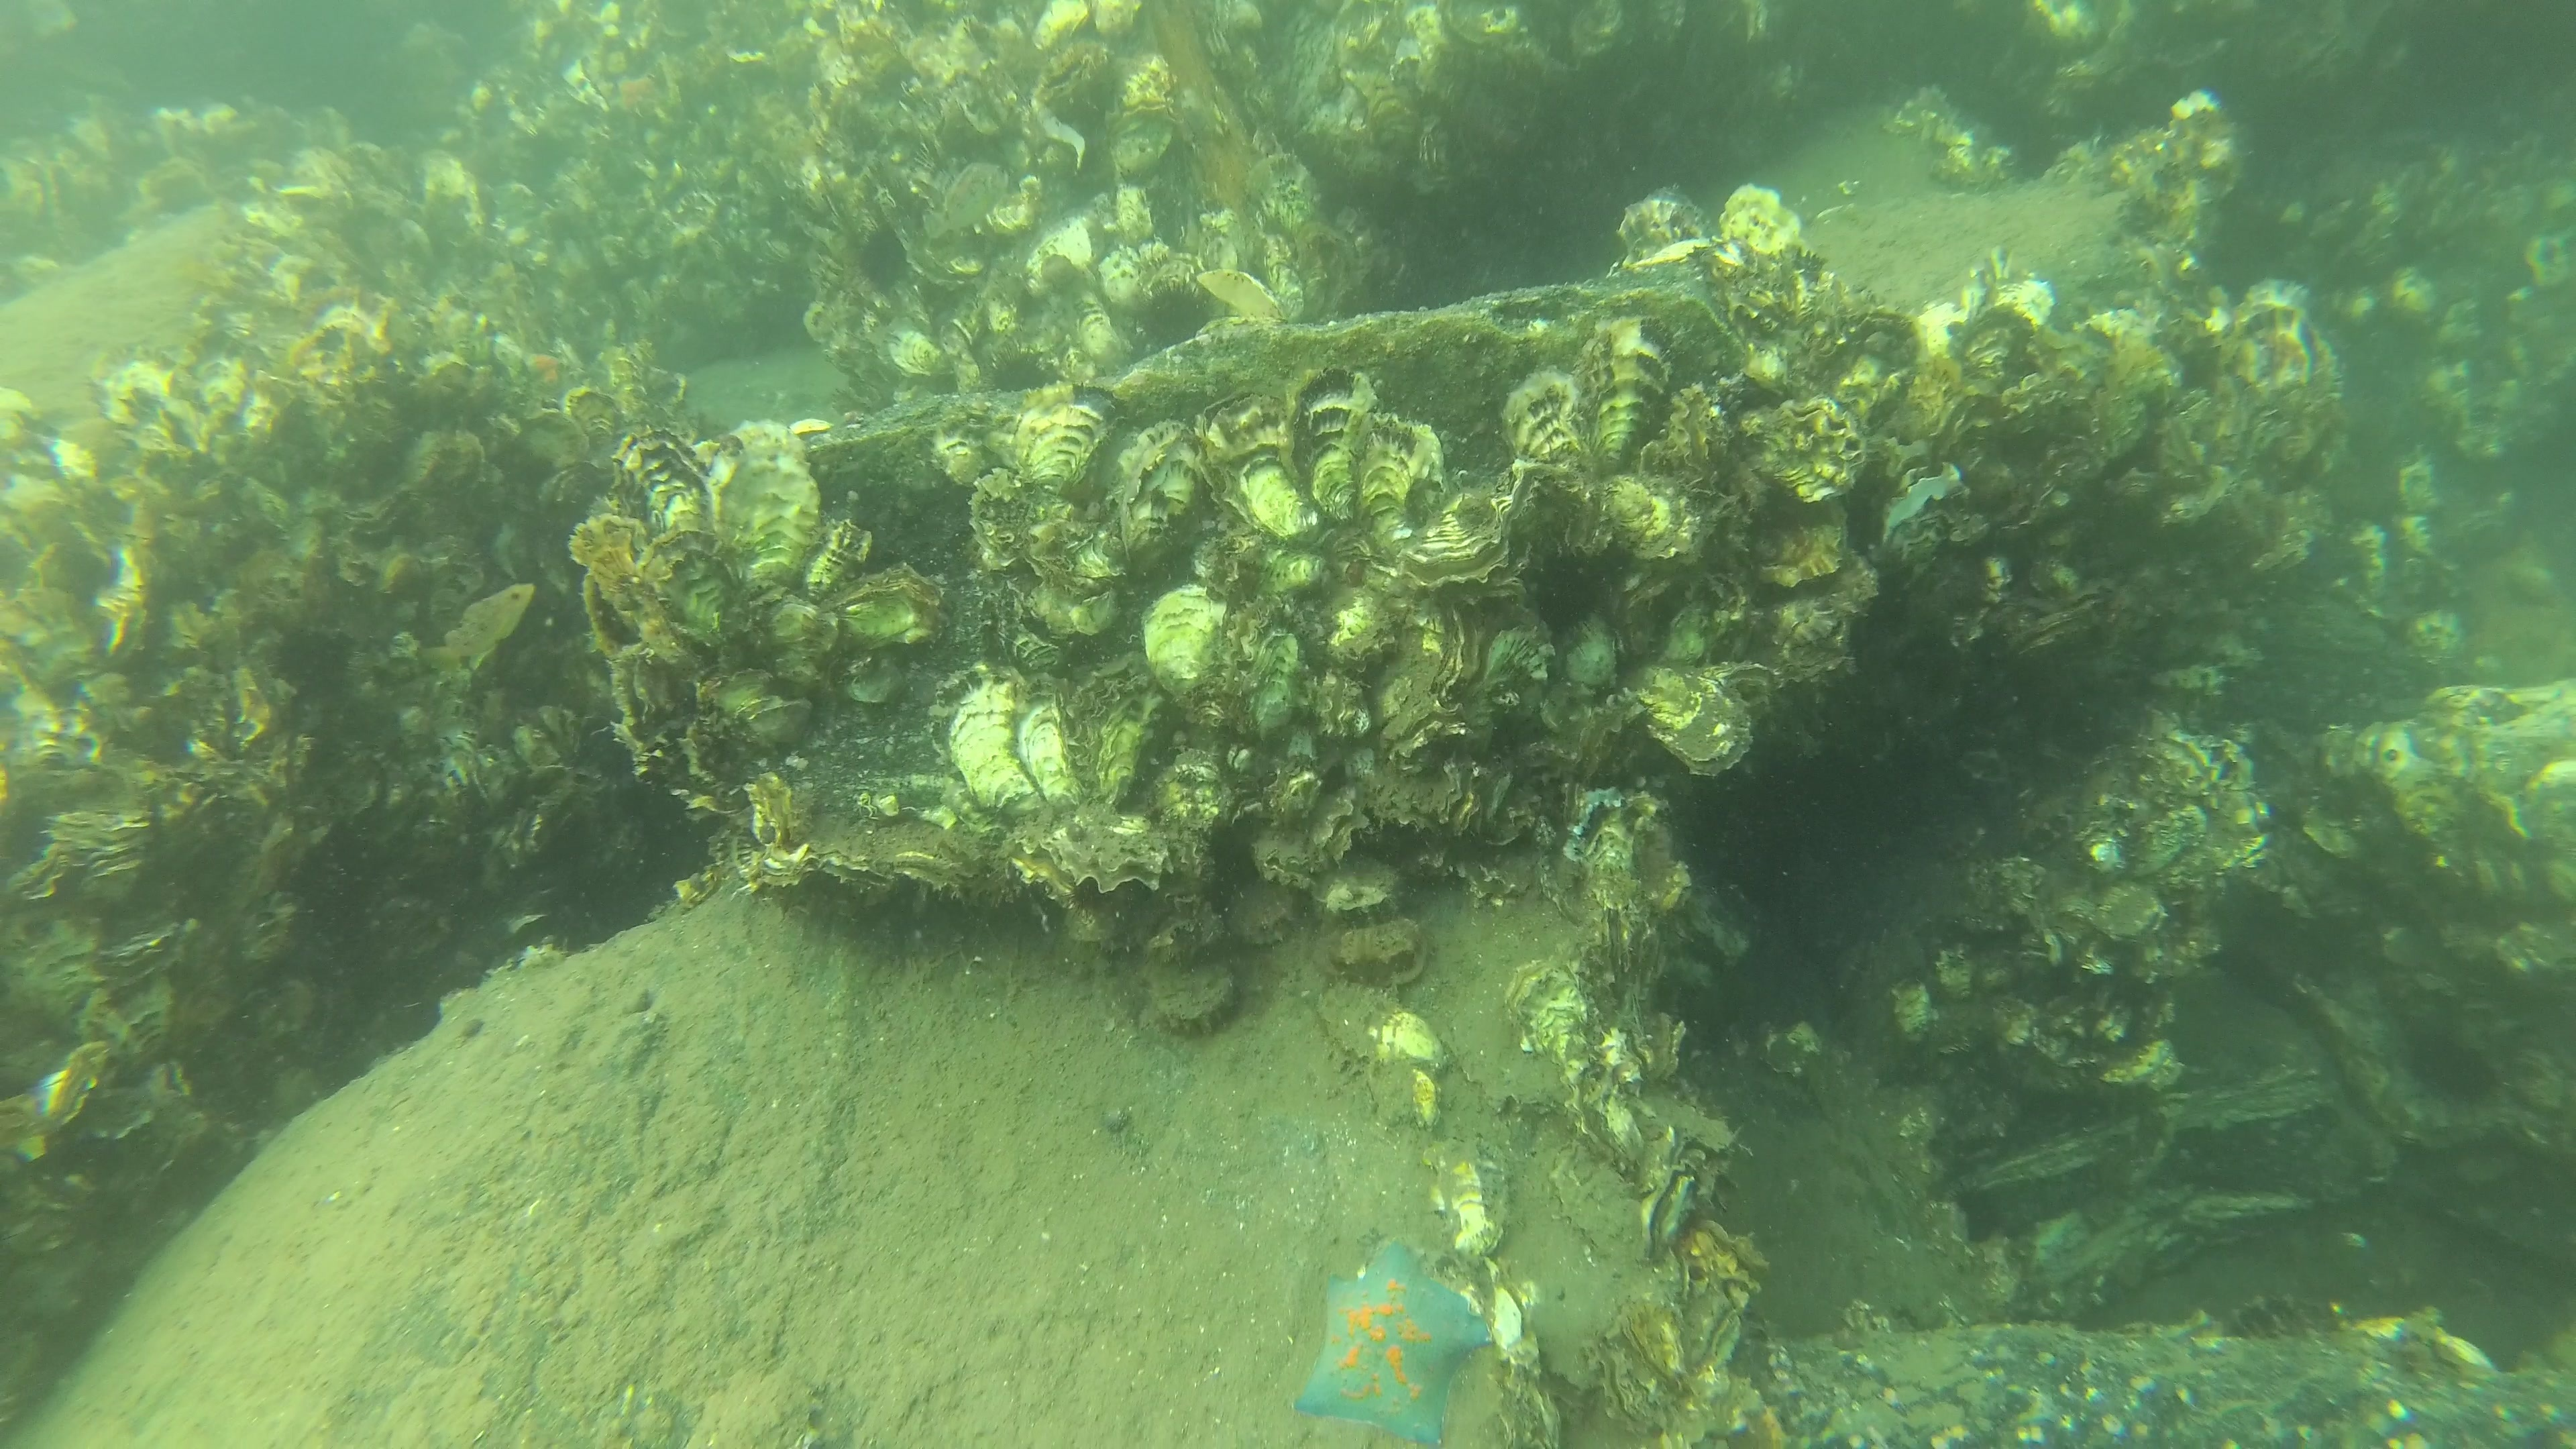starfish: (1299, 1228, 1493, 1449)
